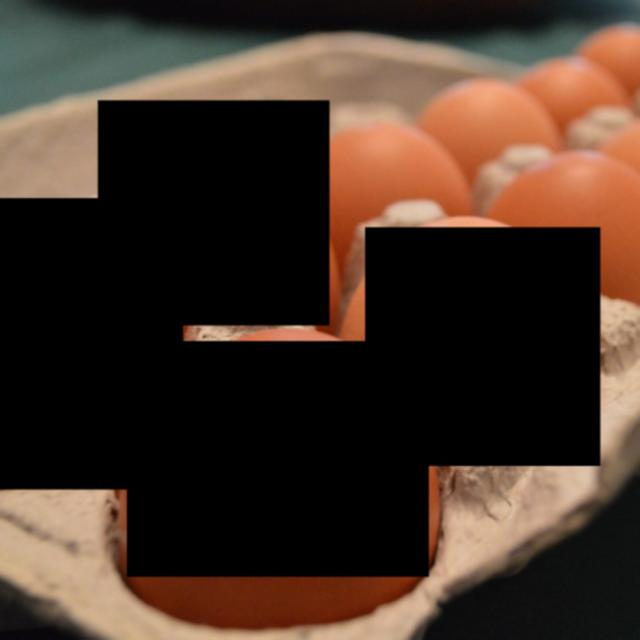Egg: (127, 342, 429, 578), (365, 227, 601, 466), (0, 199, 183, 490), (98, 100, 330, 326)
